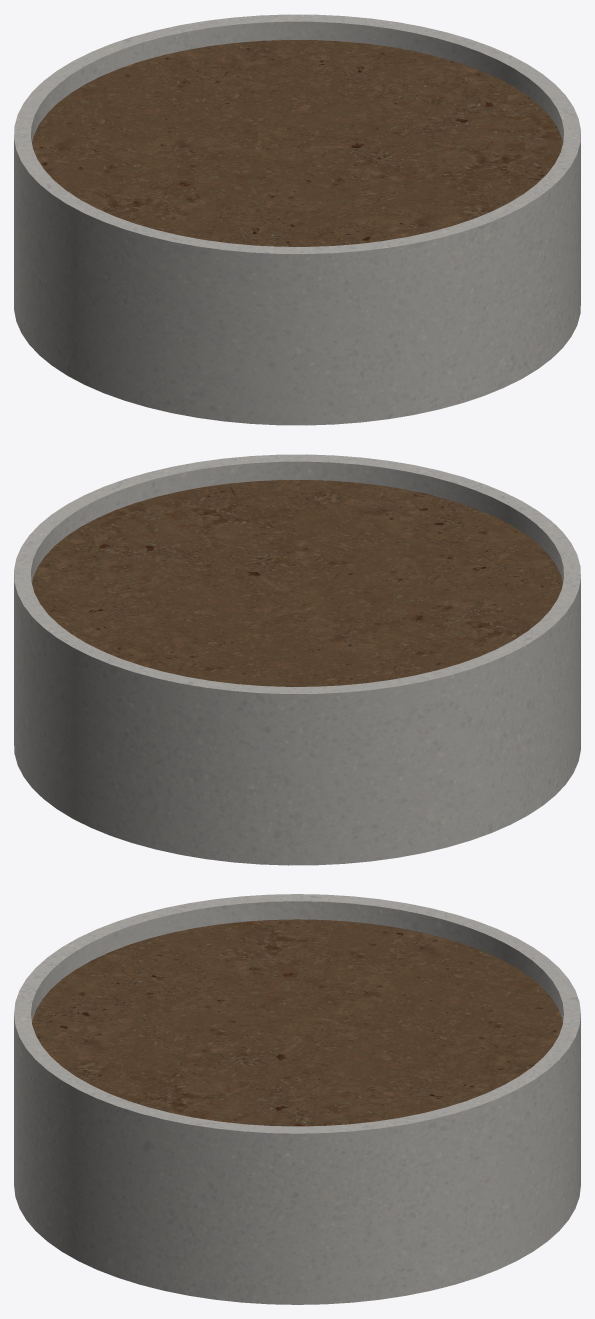
The model's file is Kvetinac_Nizky.fbx.
3 views of the same model, one above another, from view 1: azimuth 30°, elevation 25°; view 2: azimuth 150°, elevation 25°; view 3: azimuth 270°, elevation 25° (orthographic).
Parts seen in each view (by area): view 1: Kvetinac_Nizky; view 2: Kvetinac_Nizky; view 3: Kvetinac_Nizky.
Part boxes in pixels (x1,y1,x2,y2): Kvetinac_Nizky: (14, 14, 580, 425); Kvetinac_Nizky: (14, 454, 580, 865); Kvetinac_Nizky: (14, 894, 580, 1304).
Size of the model in its own units: 90 by 30 by 90.
